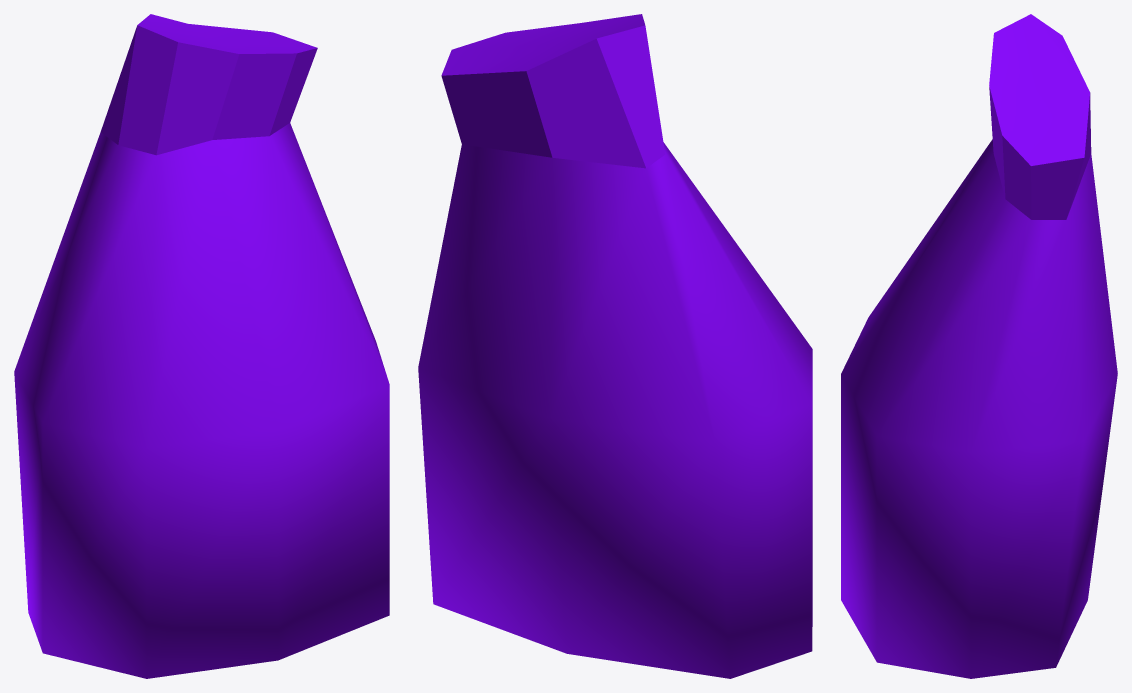
File: CommonPeople2_backpack_1_onGround_meshCollider.fbx
The picture shows the model from 3 angles, left to right: view 1: azimuth 30°, elevation 25°; view 2: azimuth 150°, elevation 25°; view 3: azimuth 270°, elevation 25°; orthographic projection. The views are drawn at different scales.
Visible parts, largest first — view 1: CommonPeople2_backpack_1_onGround_meshCollider; view 2: CommonPeople2_backpack_1_onGround_meshCollider; view 3: CommonPeople2_backpack_1_onGround_meshCollider.
Boxes of the visible parts, left/top/right/bottom form: CommonPeople2_backpack_1_onGround_meshCollider: left=14, top=14, right=389, bottom=678; CommonPeople2_backpack_1_onGround_meshCollider: left=418, top=14, right=812, bottom=678; CommonPeople2_backpack_1_onGround_meshCollider: left=841, top=14, right=1117, bottom=678.
Size of the model in its own units: 18.89 by 31.16 by 13.83.
